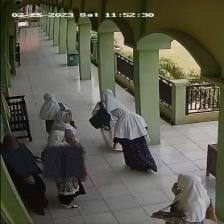Cadar_Niqab: (42, 129, 84, 178)
